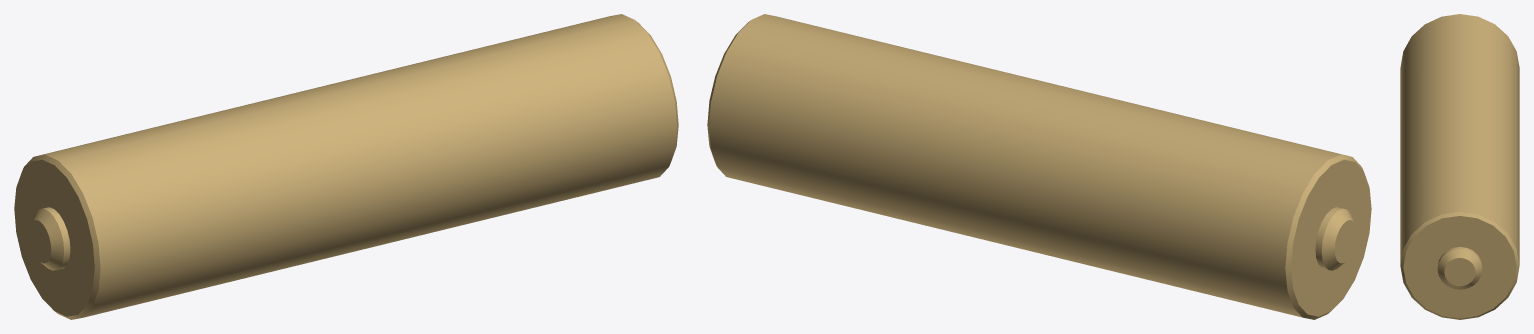
File: Oden_Goboten.gltf
The picture shows the model from 3 angles, left to right: view 1: azimuth 30°, elevation 25°; view 2: azimuth 150°, elevation 25°; view 3: azimuth 270°, elevation 25°; orthographic projection. The views are drawn at different scales.
Parts seen in each view (by area): view 1: Oden_Goboten; view 2: Oden_Goboten; view 3: Oden_Goboten.
Part boxes in pixels (x1,y1,x2,y2): Oden_Goboten: (14,14,678,319); Oden_Goboten: (707,14,1371,319); Oden_Goboten: (1400,14,1519,319).
Bounding box in the file's own units: 3.33 × 0.799 × 0.7993.
